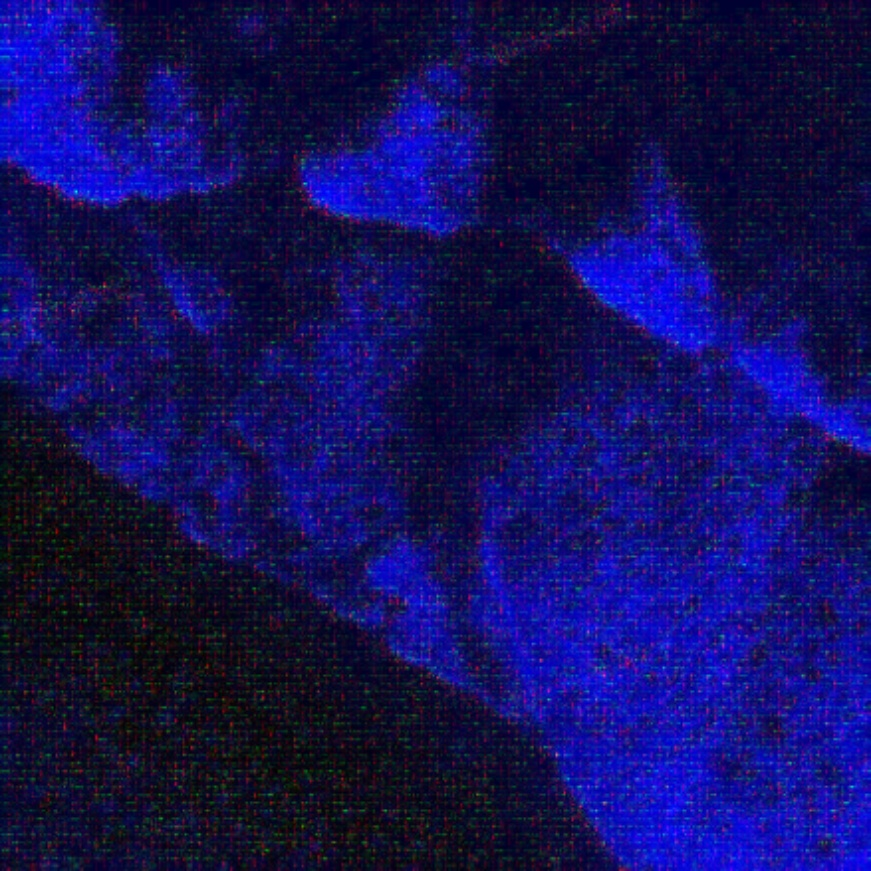rip_current: (347, 117, 658, 651)
